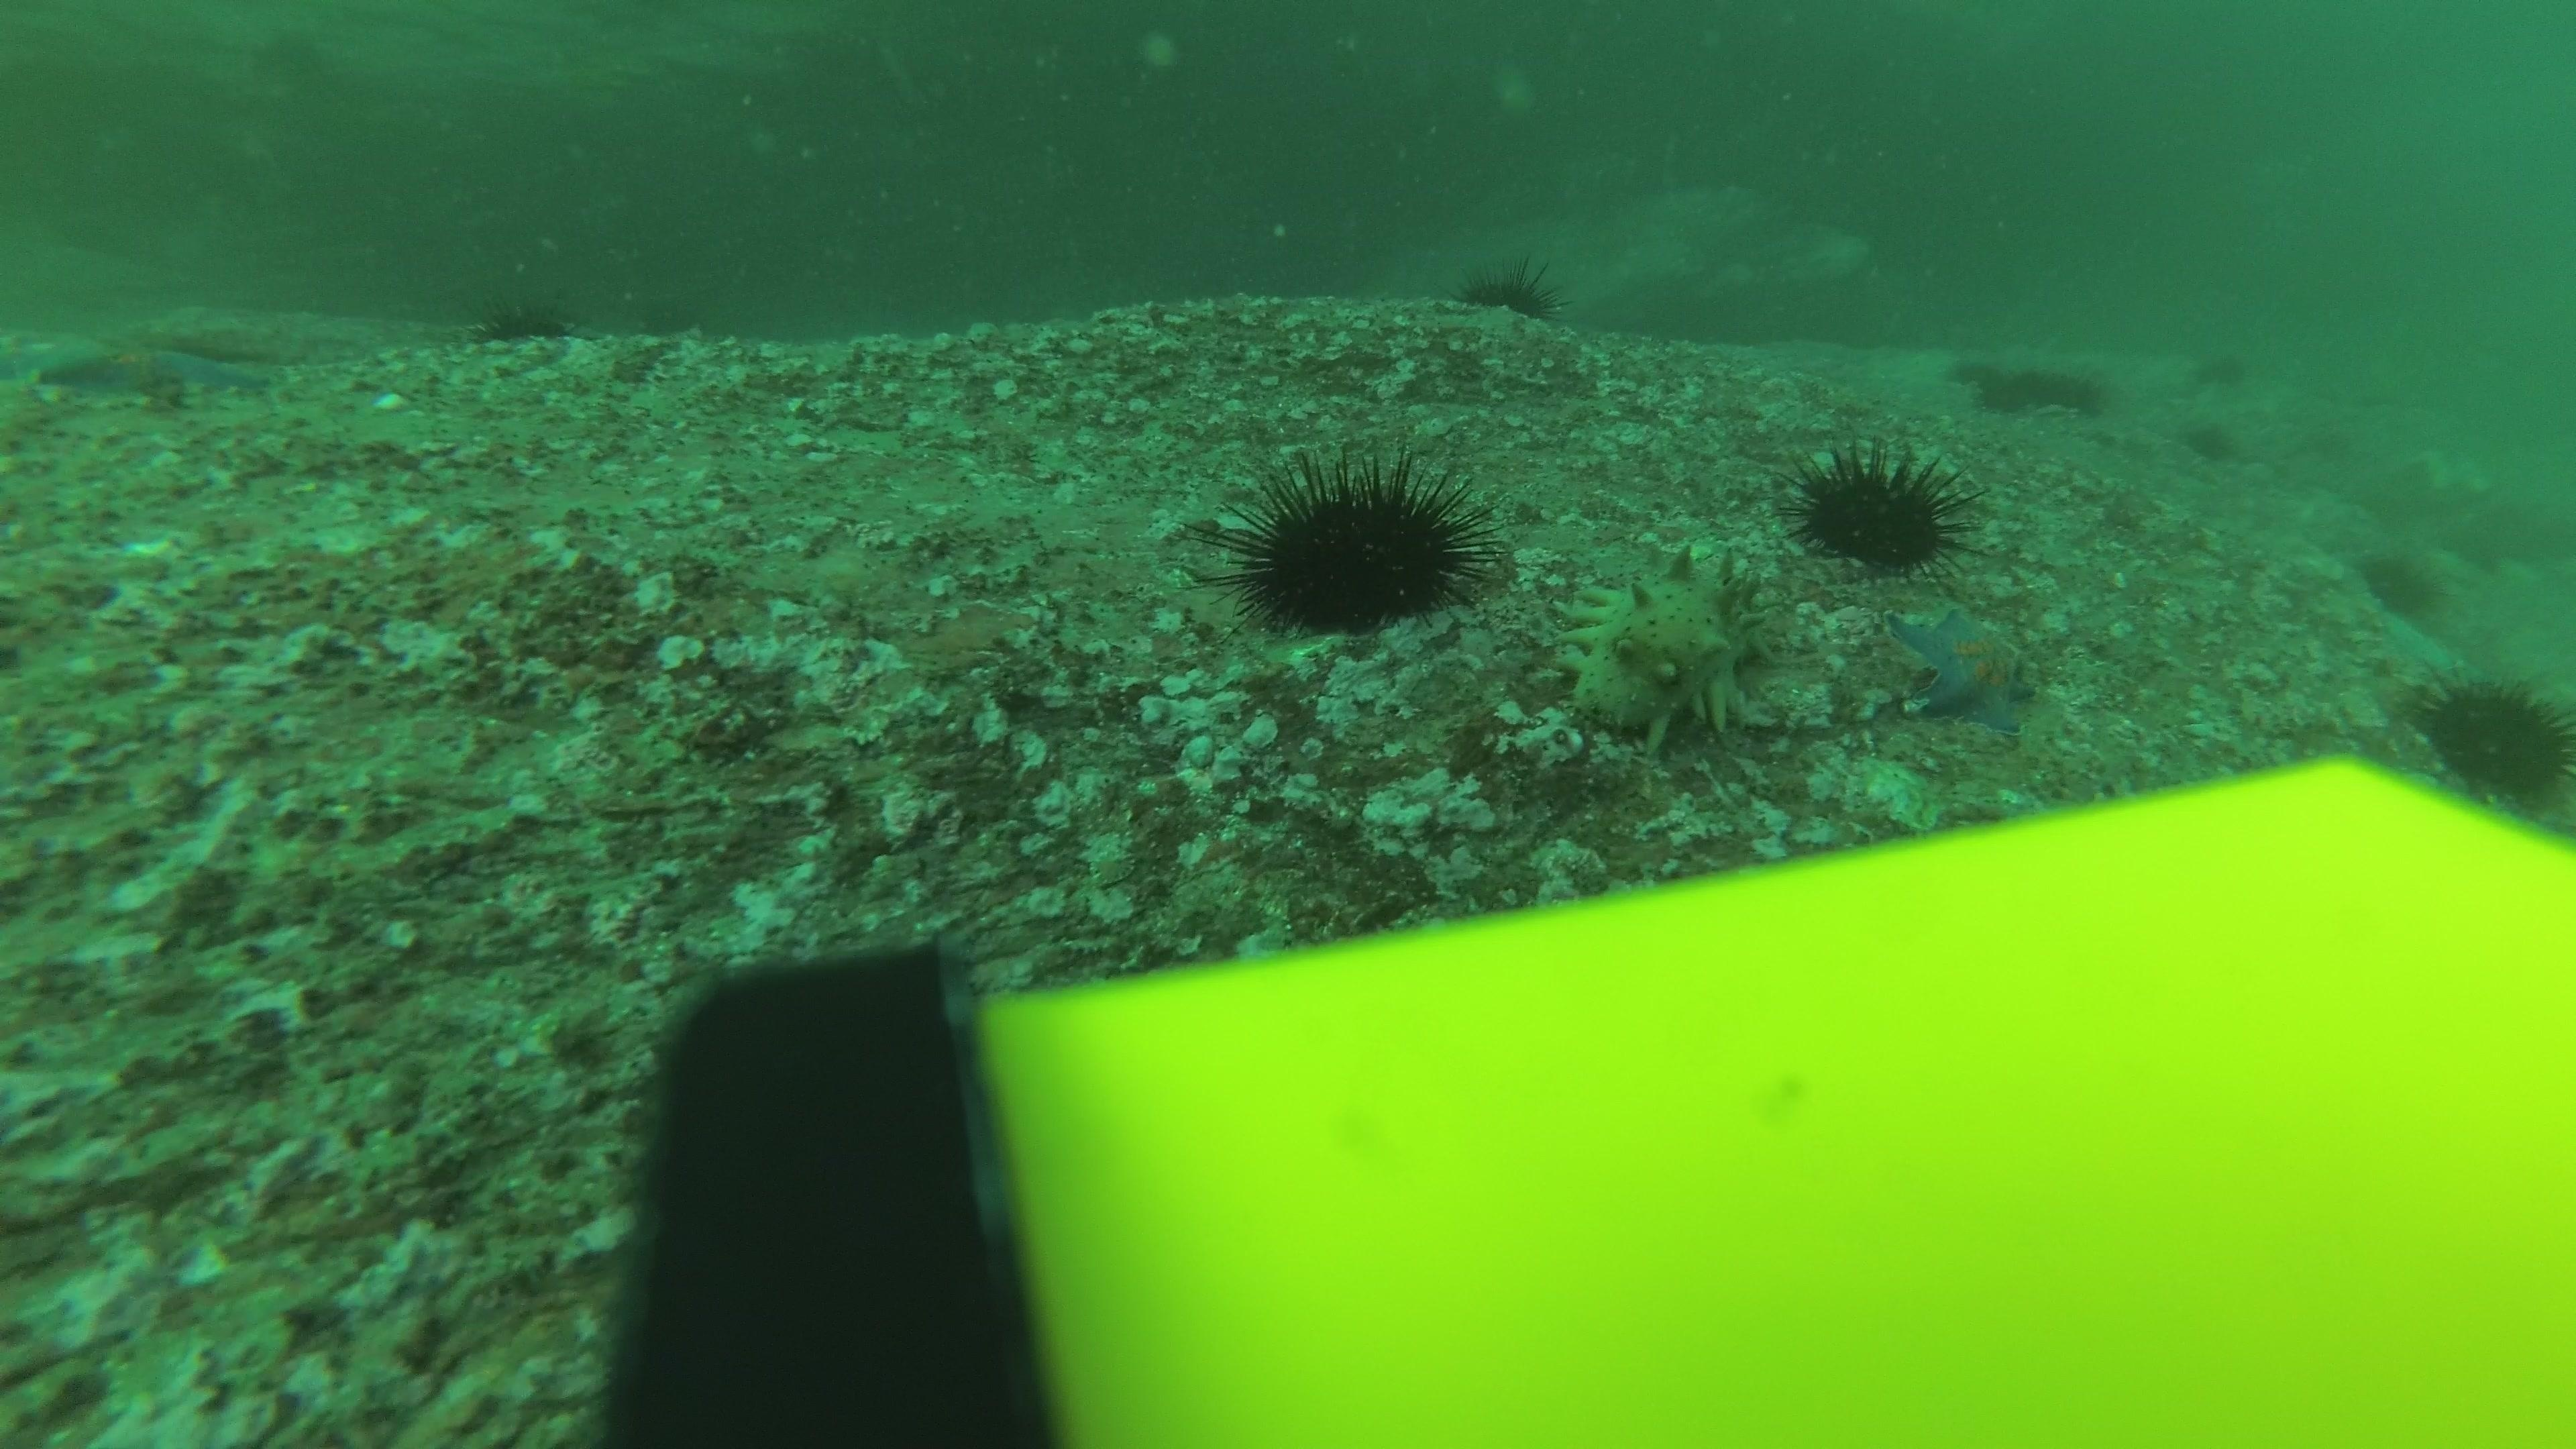echinus: (1215, 448, 1493, 640), (1789, 441, 1973, 575), (2415, 669, 2572, 807), (2357, 543, 2445, 617), (1463, 255, 1560, 320), (478, 292, 571, 347), (2181, 416, 2240, 465), (2192, 347, 2240, 391), (1982, 370, 2029, 412), (1941, 345, 1989, 387), (2031, 364, 2079, 407)
holothurian: (1552, 538, 1783, 752)
starfish: (1881, 594, 2043, 736), (19, 329, 278, 409), (2369, 607, 2468, 678)
